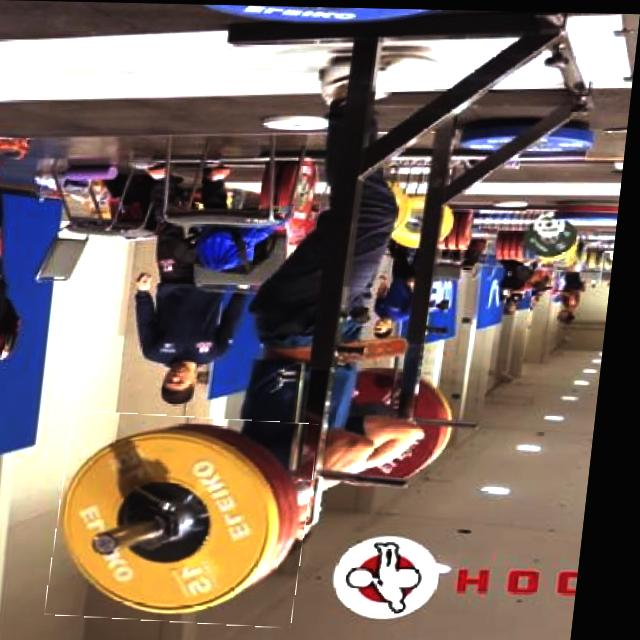barbell: (60, 413, 329, 625)
